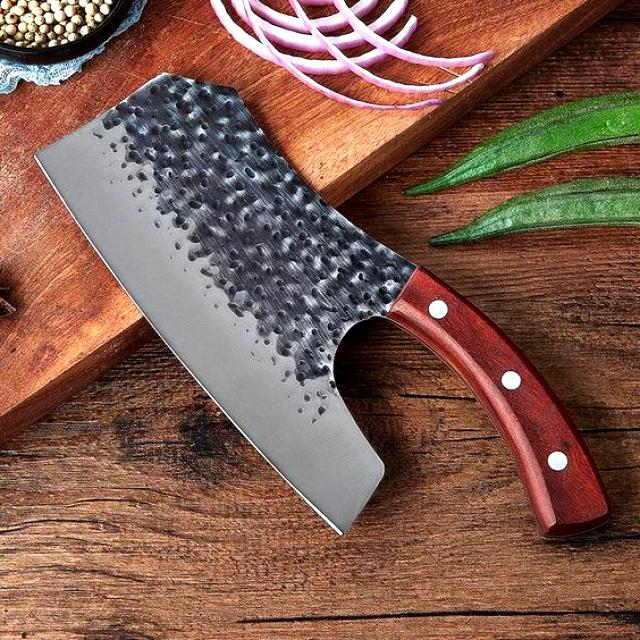cleaver: (31, 74, 624, 538)
